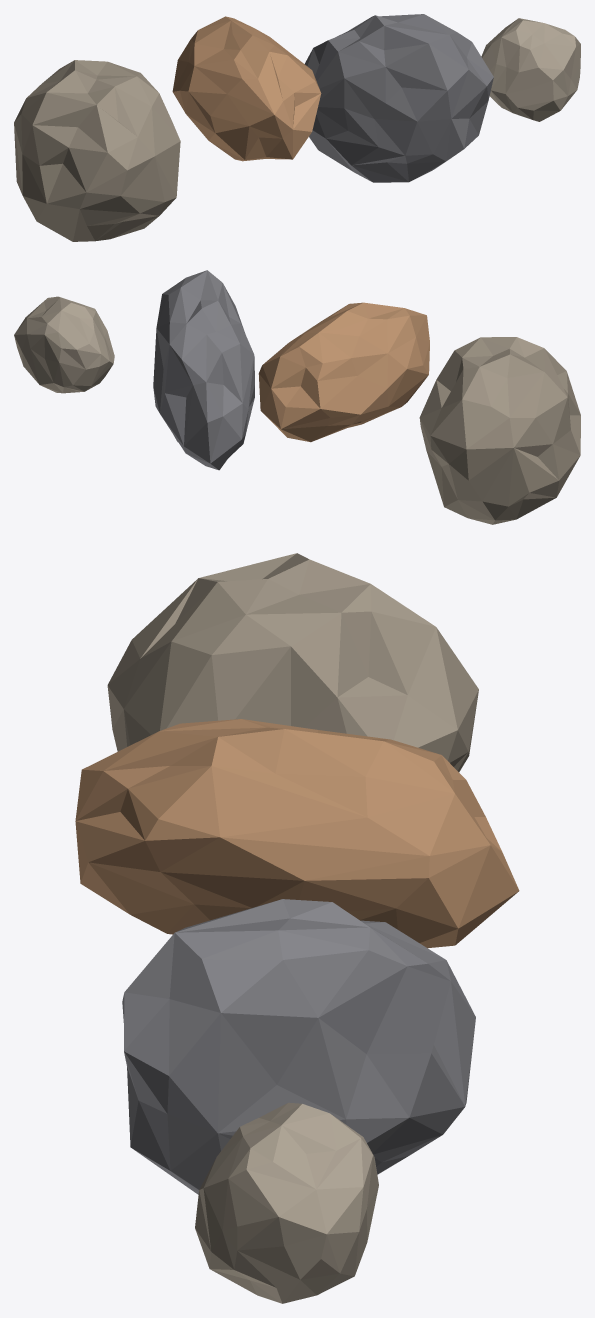
File: terrain_rocks.glb
The picture shows the model from 3 angles, top to bottom: view 1: azimuth 30°, elevation 25°; view 2: azimuth 150°, elevation 25°; view 3: azimuth 270°, elevation 25°; orthographic projection. The views are drawn at different scales.
Parts seen in each view (by area): view 1: Rock0, Rock2, Rock1, Rock3; view 2: Rock0, Rock1, Rock2, Rock3; view 3: Rock1, Rock2, Rock0, Rock3.
Boxes of the visible parts, bbox=[...] form: Rock0: bbox=[14, 60, 180, 241]; Rock2: bbox=[305, 14, 493, 182]; Rock1: bbox=[172, 16, 321, 161]; Rock3: bbox=[481, 18, 580, 121]; Rock0: bbox=[419, 337, 580, 524]; Rock1: bbox=[258, 302, 429, 442]; Rock2: bbox=[153, 270, 254, 470]; Rock3: bbox=[14, 296, 114, 393]; Rock1: bbox=[75, 719, 519, 948]; Rock2: bbox=[122, 899, 475, 1194]; Rock0: bbox=[107, 553, 478, 772]; Rock3: bbox=[195, 1102, 378, 1303].
Size of the model in its own units: 7.5 by 2.36 by 2.66.
